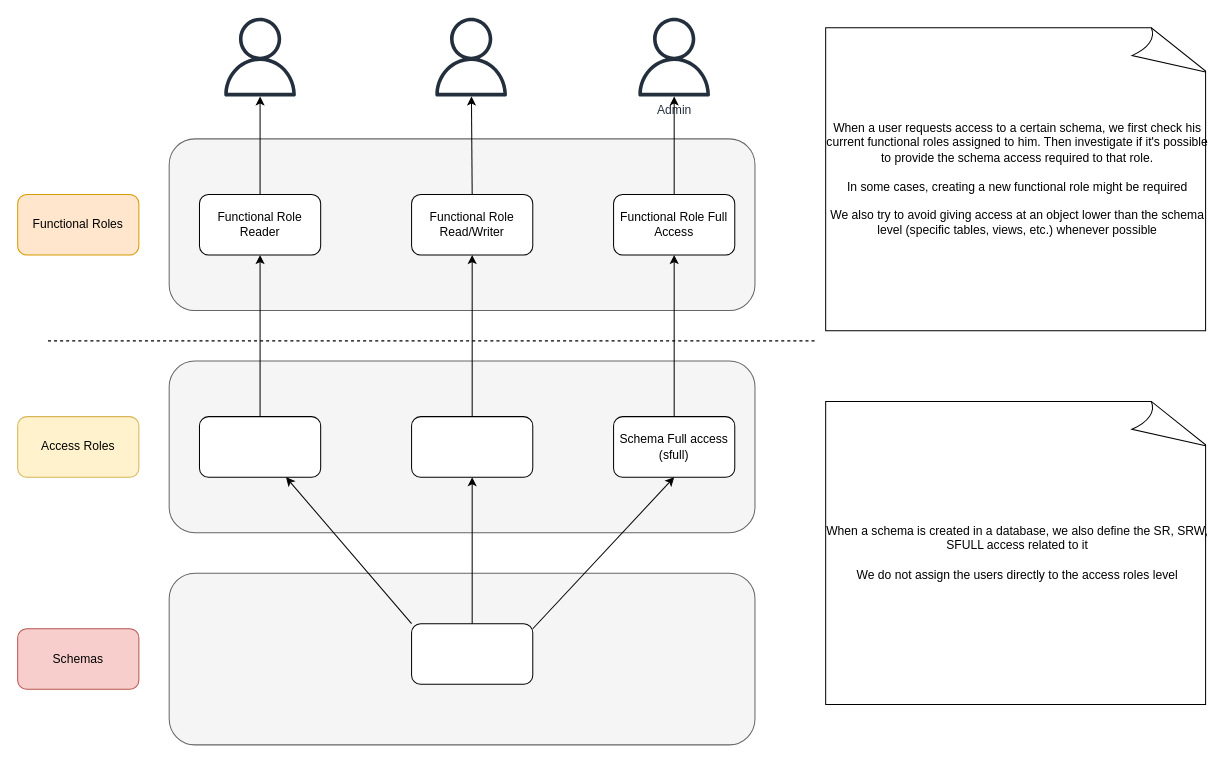
This 1227x763 diagram has some shape labels left out. The shapes that lost their labels are listed below. From the top down, each one's box as (x1, y1, x2, y2) in pixels, then its label:
(220, 17, 299, 96): Data consumer
(431, 17, 510, 96): Developer
(198, 416, 321, 477): Schema Read (SR)
(411, 416, 533, 477): Schema Read Write (SRW)
(411, 623, 533, 684): Schema 1
